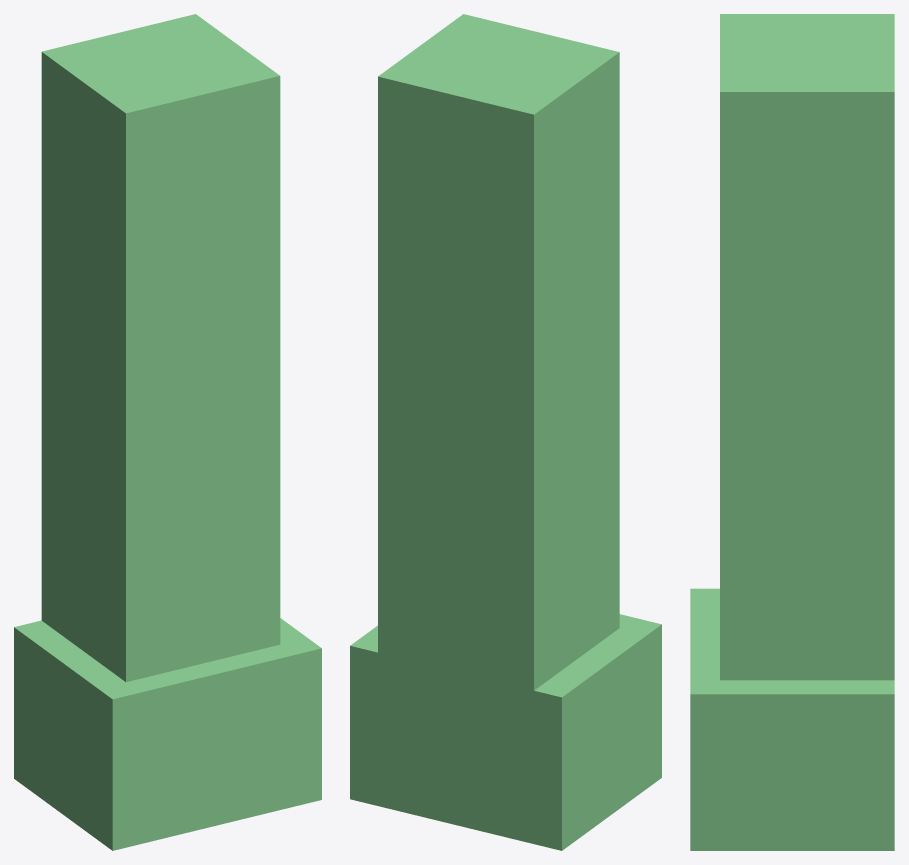
The model's file is pillar_hallway.FBX.
The picture shows the model from 3 angles, left to right: view 1: azimuth 30°, elevation 25°; view 2: azimuth 150°, elevation 25°; view 3: azimuth 270°, elevation 25°; orthographic projection. The views are drawn at different scales.
Parts seen in each view (by area): view 1: pillar_hallway; view 2: pillar_hallway; view 3: pillar_hallway.
Part boxes in pixels (bbox=[...]): pillar_hallway: bbox=[14, 14, 321, 850]; pillar_hallway: bbox=[350, 14, 661, 850]; pillar_hallway: bbox=[690, 14, 894, 850].
Size of what is drawn, in the model's own units: 182 by 149 by 600.
